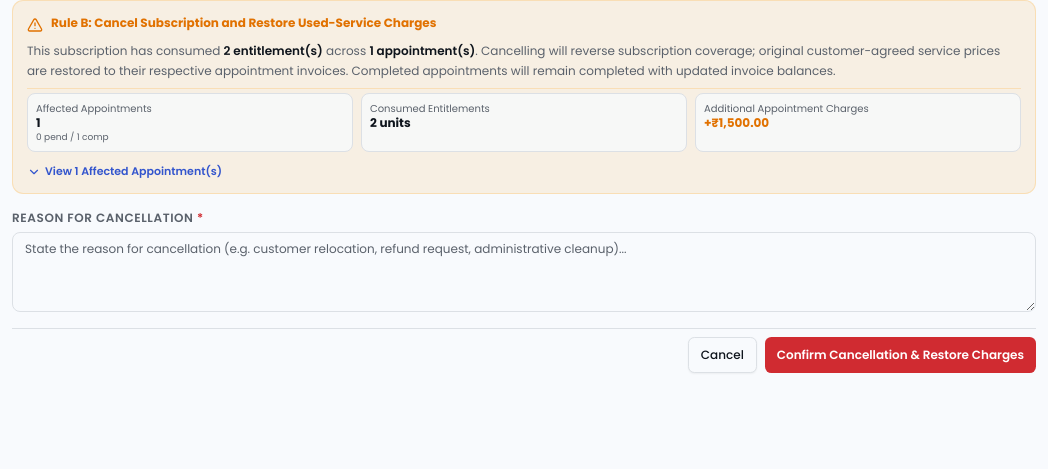
CancelSubscriptionDialog - Production-Grade Cancellation & Rebilling UI › loads and displays Rule B preview with affected appointments and additional appointment charges
Expected: the text "Rule B: Cancel Subscription and Restore Used-Service Charges" is shown, [51,15,436,31]
Expected: the text "Consumed Entitlements" is shown, [370,101,490,116]
Toggle affected appointment list
Step 1. Click the button "View 1 Affected Appointment(s)" → [125, 172], box [27,164,222,179]
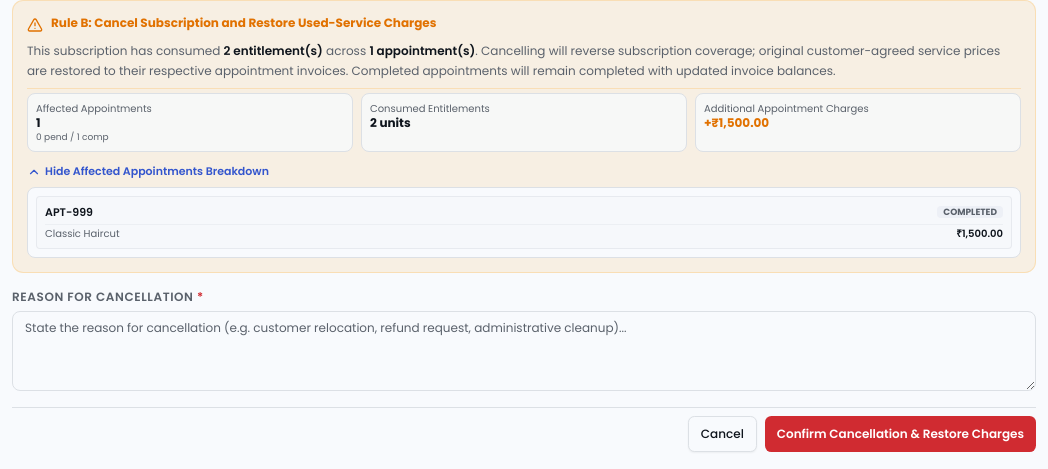
Expected: the text "Classic Haircut" is shown, [45,227,120,240]
Expected: the text "APT-999" is shown, [45,205,93,220]
